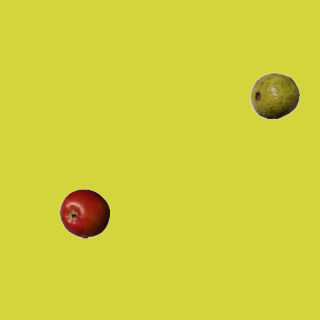Apple Braeburn: (59, 188, 109, 238)
Guava: (249, 70, 299, 120)
